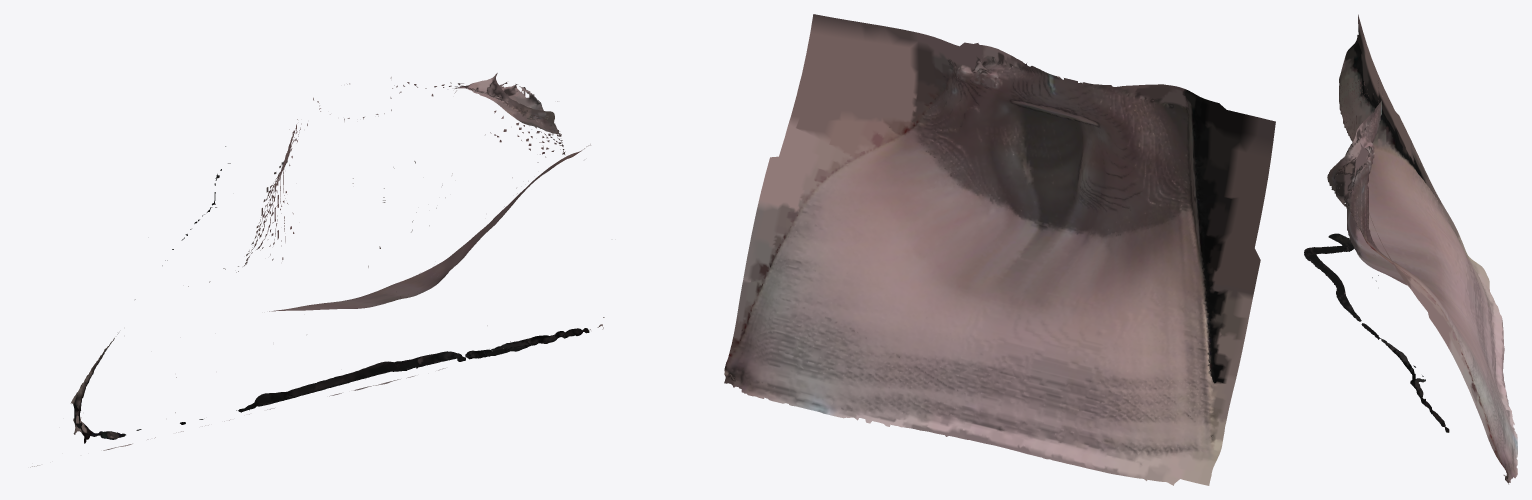
3 views of the same model, side by side, from view 1: azimuth 30°, elevation 25°; view 2: azimuth 150°, elevation 25°; view 3: azimuth 270°, elevation 25° (orthographic). The views are drawn at different scales.
Bounding box in the file's own units: 0.00144 × 0.000931 × 0.000644.
